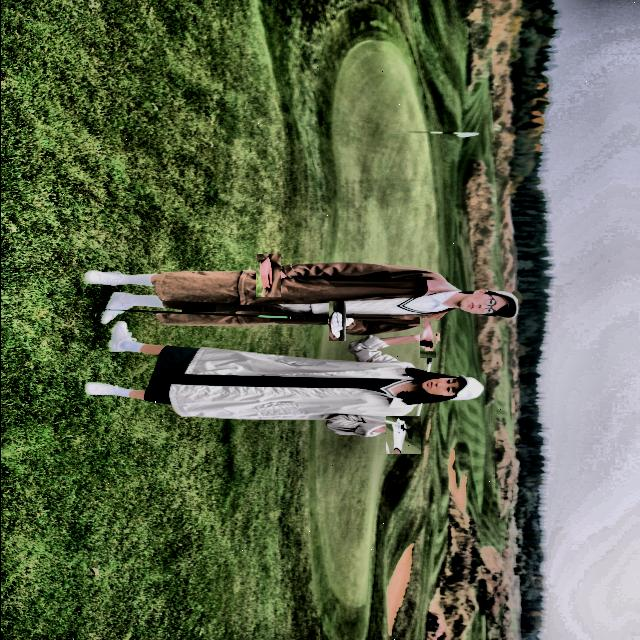gloved: (384, 416, 422, 454), (250, 259, 284, 293), (322, 306, 351, 335), (412, 323, 441, 352)
